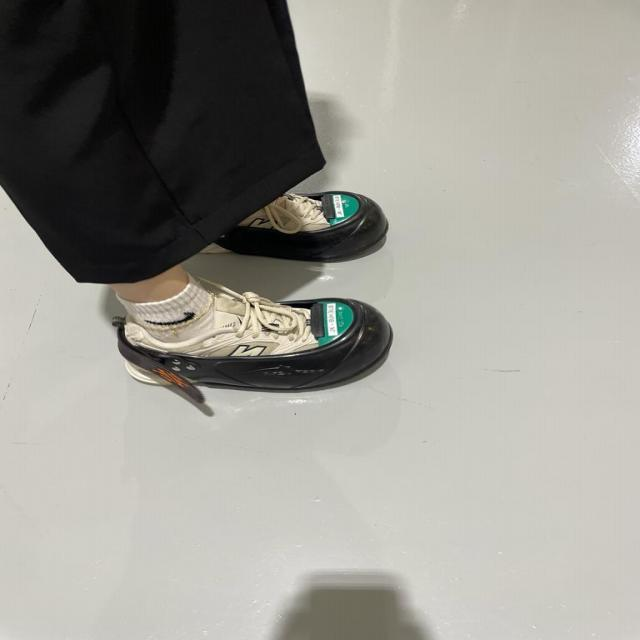shoes: (112, 290, 394, 392), (216, 179, 390, 259)
